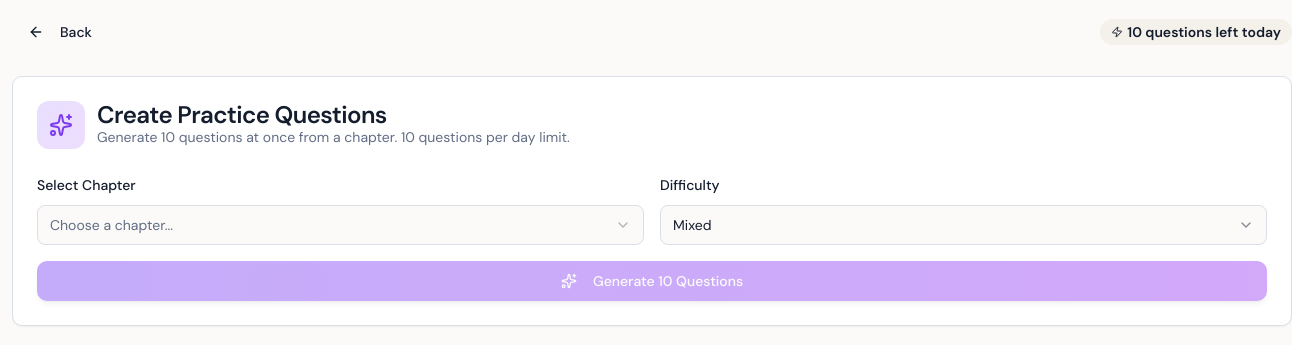
Test case: StudentQuestionGenerator — which chapters are on offer › offers a chapter that has text and one that only has an uploaded file
The width and height of the screenshot is (1292, 345).
Expected: the text "Choose a chapter..." is shown, [50,215,173,235]
Click the dropdown labelled "Choose a chapter..." at [112, 225], box [37,205,644,245]
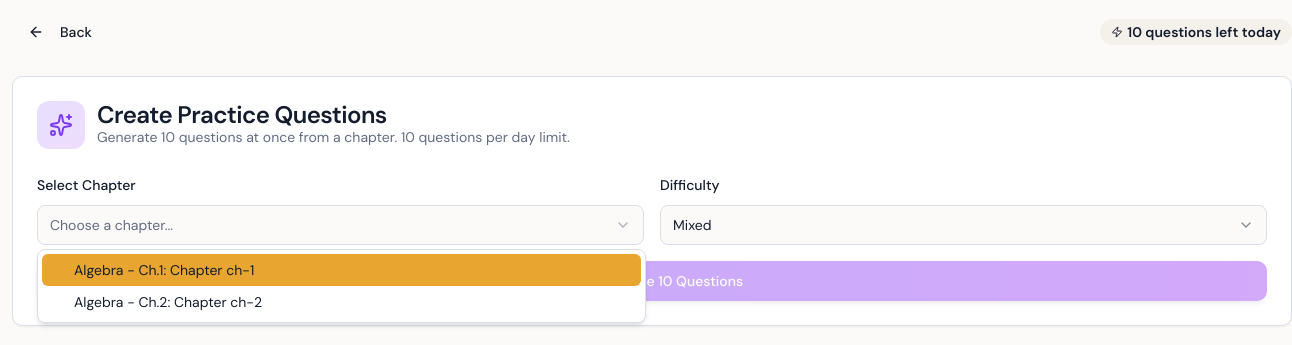
Expected: the option "Algebra - Ch.1: Chapter ch-1" is shown, [42,254,641,286]
Expected: the option "Algebra - Ch.2: Chapter ch-2" is shown, [74,293,262,311]
